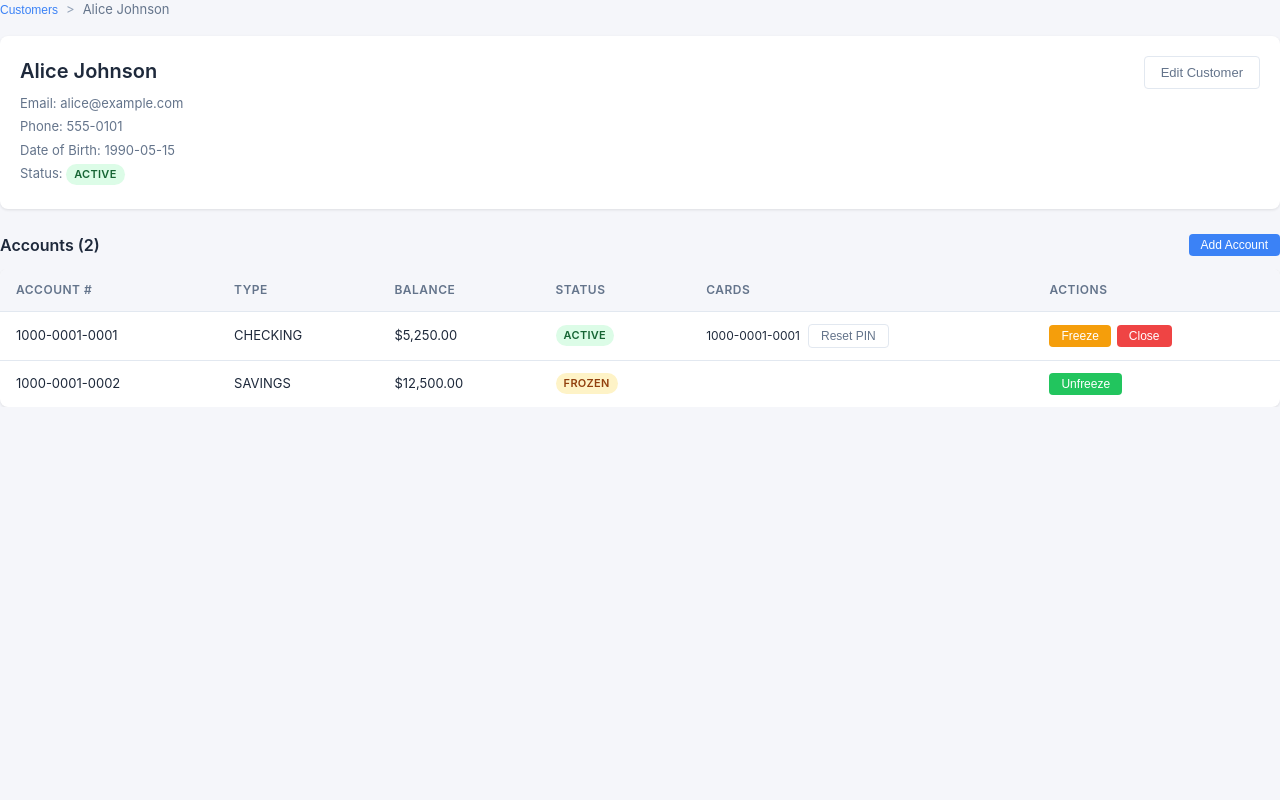
Test case: CustomerDetailPage › opens close account confirm dialog
Click the button "Close" at (1144, 336), box [1117, 324, 1172, 346]
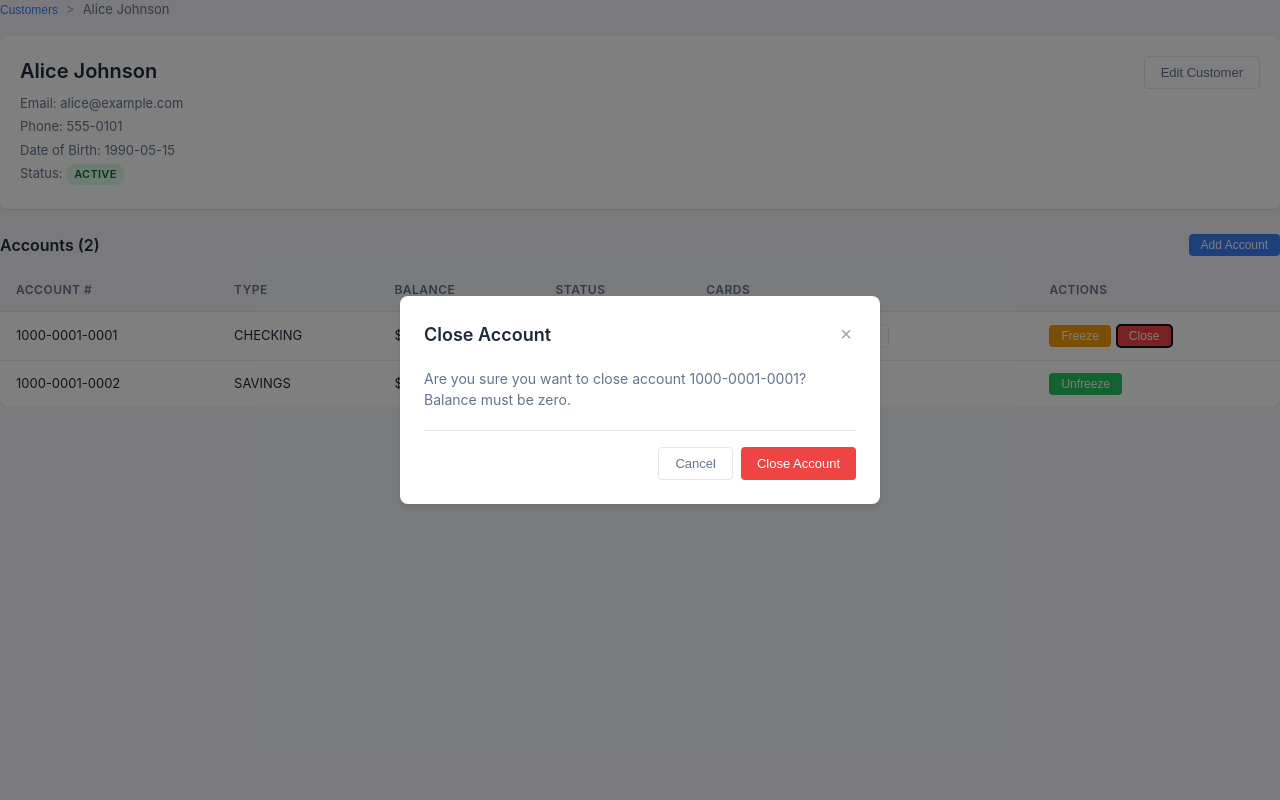
Now the text "Are you sure you want to close account 1000-0001-0001? Balance must be zero." is shown, box [424, 368, 856, 410]
